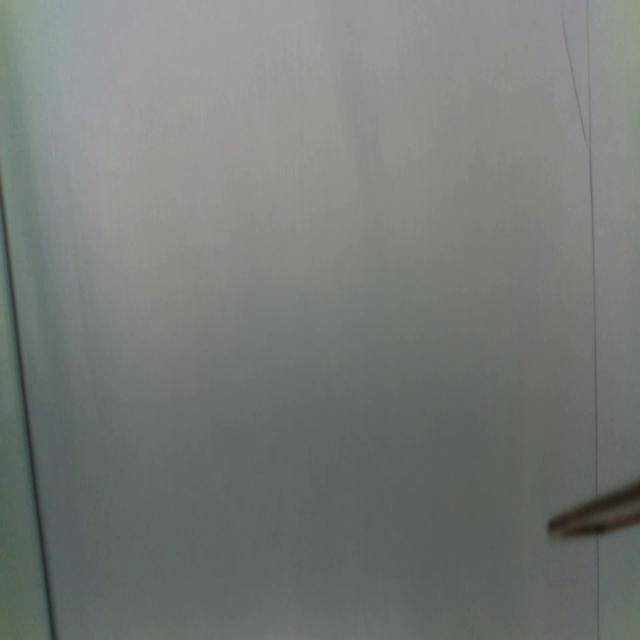crease: (0, 181, 56, 640), (584, 2, 601, 500), (557, 1, 586, 142), (594, 533, 602, 640)
